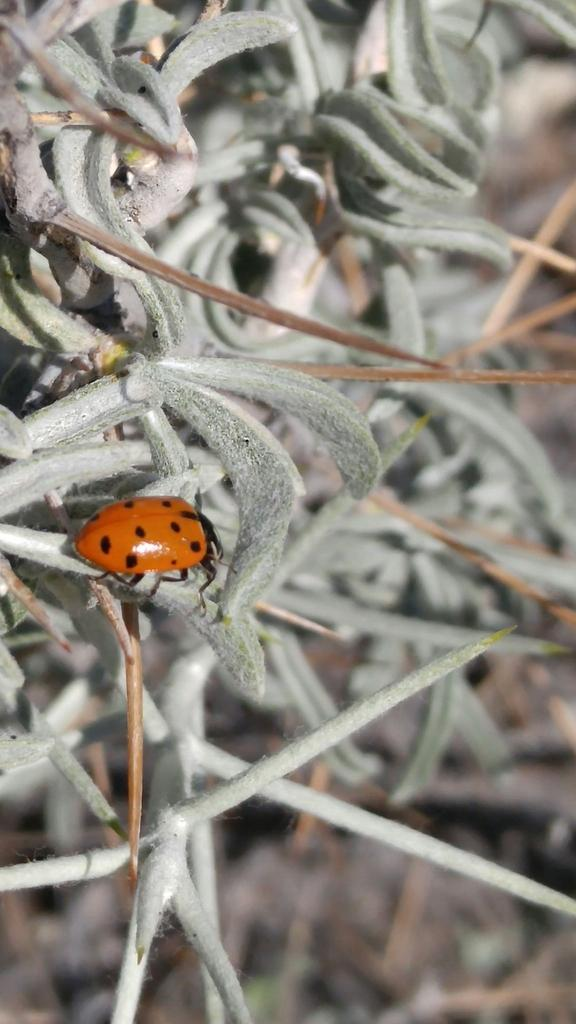ladybug: (66, 486, 246, 614)
